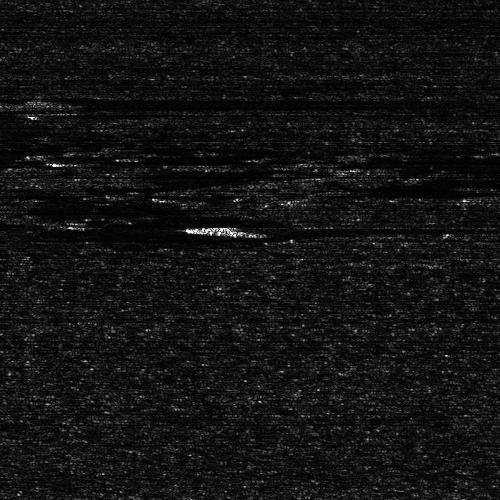object: (186, 223, 259, 232), (0, 96, 30, 109), (2, 112, 75, 117)
shadow: (0, 96, 353, 109), (223, 223, 312, 232), (39, 112, 119, 117)
